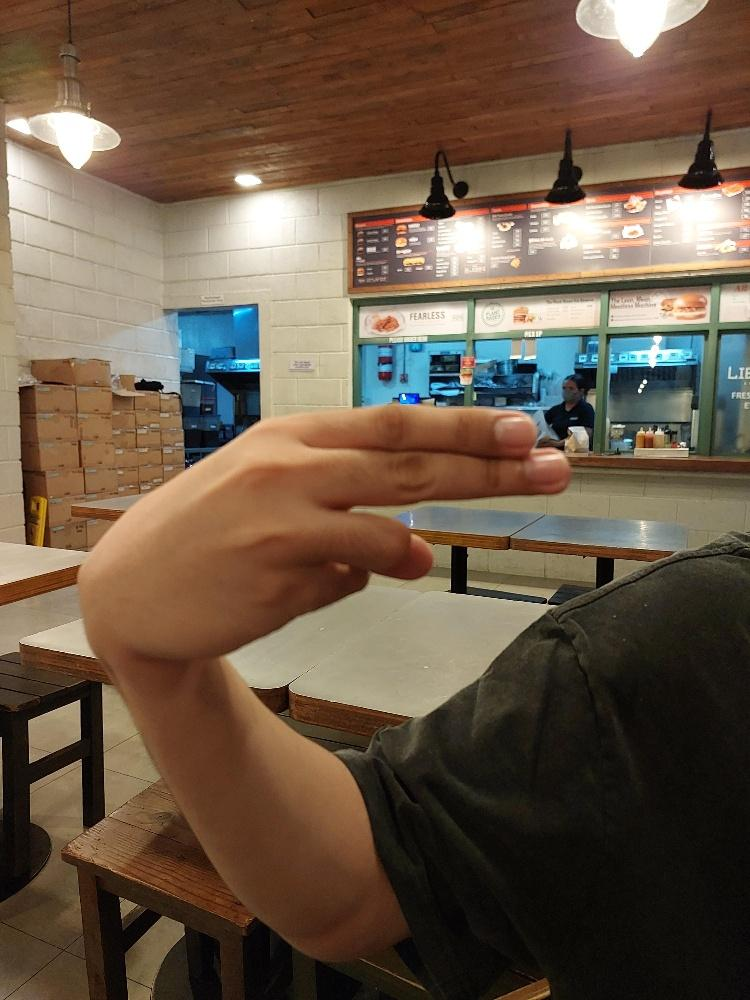h: (105, 403, 573, 661)
